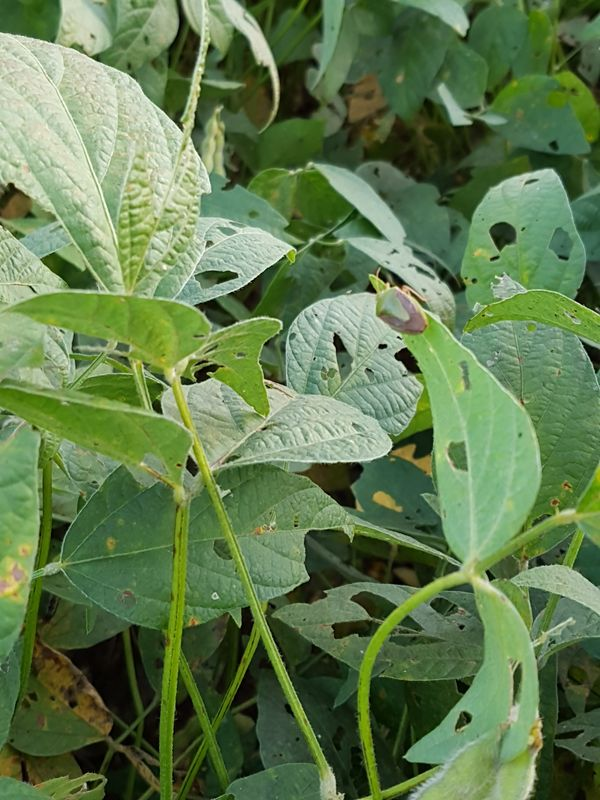Edessa_meditabunda: (365, 266, 447, 344)
